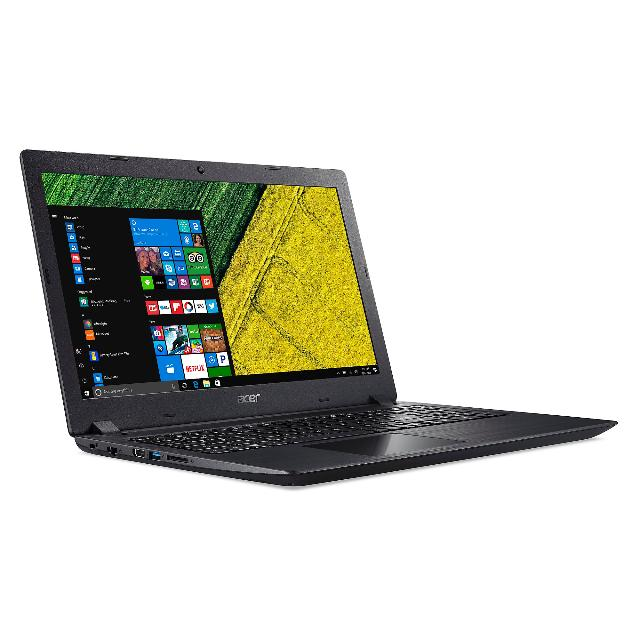Laptop: (15, 146, 621, 496)
